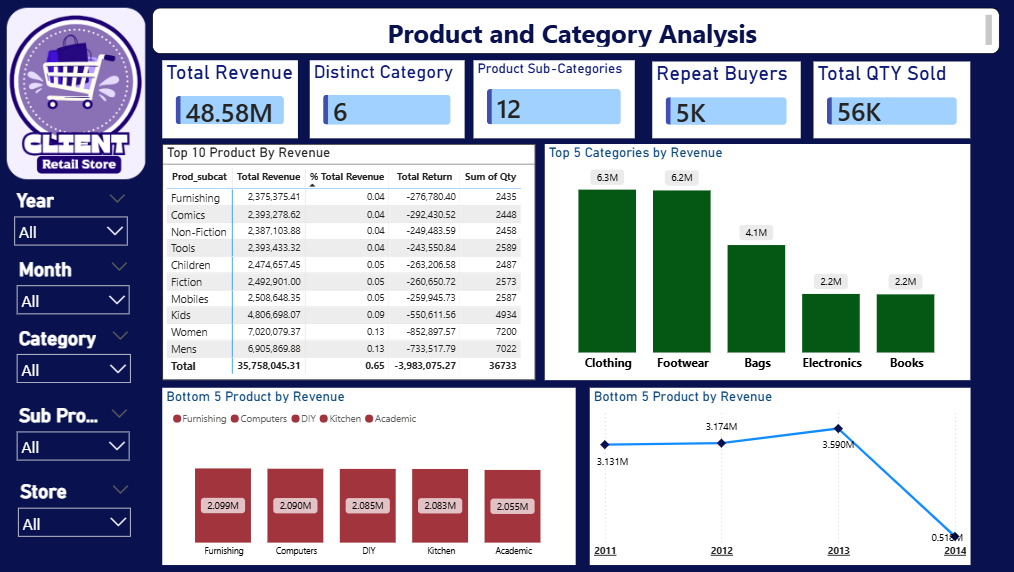

Layout of this report page (visuals, bound fields, positions):
{"tool":"powerbi","page":{"name":"Product and Category Analysis","canvas":[1280,720],"ordinal":3},"visuals":[{"type":"cardVisual","title":"Total Revenue","fields":{"Data":["Sum(Transactions.total_amt)"]},"box":[207.7,76.9,169.2,97.4],"z":0},{"type":"textbox","box":[194.9,10.3,1059,57.7],"z":1000},{"type":"cardVisual","title":"Distinct Category","fields":{"Data":["Count(Transactions.prod_cat_info.prod_cat_code)"]},"box":[392.3,76.9,193.6,97.4],"z":2000},{"type":"cardVisual","title":"Product Sub-Categories","fields":{"Data":["Count(Transactions.prod_cat_info.prod_sub_cat_code)"]},"box":[597.4,76.9,201.3,97.4],"z":3000},{"type":"cardVisual","title":"Total QTY Sold","fields":{"Data":["Sum(Transactions.Qty)"]},"box":[1021.8,78.2,196.2,96.2],"z":4000},{"type":"cardVisual","title":"Repeat Buyers","fields":{"Data":["Transactions.repeat Buyer"]},"box":[820.5,78.2,185.9,96.2],"z":5000},{"type":"pivotTable","title":"Top 10 Product By Revenue","fields":{"Values":["Transactions.totalSale","Transactions.reveneueper","Transactions.Total Return","Sum(Transactions.Qty)"],"Rows":["Transactions.prod_cat_info.prod_subcat"]},"box":[207.7,180.8,466.7,294.9],"z":6000},{"type":"lineStackedColumnComboChart","title":"Top 5 Categories by Revenue","fields":{"Y":["Sum(Transactions.total_amt)"],"Category":["Transactions.prod_cat_info.prod_cat"]},"box":[685.9,180.8,532.1,294.9],"z":7000},{"type":"lineStackedColumnComboChart","title":"Bottom 5 Product by Revenue","fields":{"Series":["Transactions.prod_cat_info.prod_subcat"],"Y":["Sum(Transactions.total_amt)"],"Category":["Transactions.prod_cat_info.prod_subcat"]},"box":[207.7,485.9,516.7,221.8],"z":8000},{"type":"image","box":[6.4,10.3,188.5,214.1],"z":9000},{"type":"slicer","fields":{"Values":["Transactions.year"]},"box":[12.3,233.3,161.9,81],"z":10000},{"type":"slicer","fields":{"Values":["Transactions.tran_date.Variation.Date Hierarchy.Month"]},"box":[15.4,319.2,161.5,80.8],"z":11000},{"type":"slicer","fields":{"Values":["Transactions.Store_type"]},"box":[16.7,597.4,161.5,80.8],"z":12000},{"type":"slicer","fields":{"Values":["Transactions.prod_cat_info.prod_cat"]},"box":[15.4,405.1,162.8,80.8],"z":13000},{"type":"slicer","fields":{"Values":["Transactions.prod_cat_info.prod_subcat"]},"box":[15.4,501.3,161.5,80.8],"z":14000},{"type":"lineChart","title":"Bottom 5 Product by Revenue","fields":{"Category":["Transactions.tran_date.Variation.Date Hierarchy.Year"],"Y":["Sum(Transactions.total_amt)"]},"box":[742.3,485.9,475.6,221.8],"z":15000}]}

Visuals, with their boxes in screenshot pixels (x1, y1, x2, y2), scaled from the page's 1280x720 canvas onto the 1014x572 screenshot:
"Total Revenue" cardVisual: x1=165, y1=61, x2=299, y2=138
textbox: x1=154, y1=8, x2=993, y2=54
"Distinct Category" cardVisual: x1=311, y1=61, x2=464, y2=138
"Product Sub-Categories" cardVisual: x1=473, y1=61, x2=633, y2=138
"Total QTY Sold" cardVisual: x1=809, y1=62, x2=965, y2=139
"Repeat Buyers" cardVisual: x1=650, y1=62, x2=797, y2=139
"Top 10 Product By Revenue" pivotTable: x1=165, y1=144, x2=534, y2=378
"Top 5 Categories by Revenue" lineStackedColumnComboChart: x1=543, y1=144, x2=965, y2=378
"Bottom 5 Product by Revenue" lineStackedColumnComboChart: x1=165, y1=386, x2=574, y2=562
image: x1=5, y1=8, x2=154, y2=178
slicer - Transactions.year: x1=10, y1=185, x2=138, y2=250
slicer - Transactions.tran_date.Variation.Date Hierarchy.Month: x1=12, y1=254, x2=140, y2=318
slicer - Transactions.Store_type: x1=13, y1=475, x2=141, y2=539
slicer - Transactions.prod_cat_info.prod_cat: x1=12, y1=322, x2=141, y2=386
slicer - Transactions.prod_cat_info.prod_subcat: x1=12, y1=398, x2=140, y2=462
"Bottom 5 Product by Revenue" lineChart: x1=588, y1=386, x2=965, y2=562
